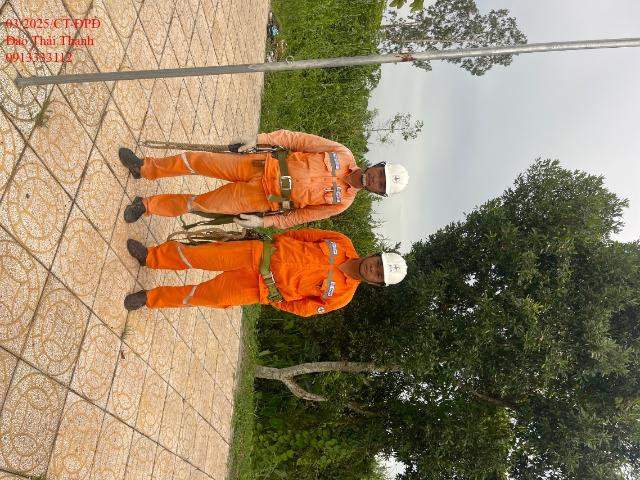gloves: (234, 128, 260, 157), (235, 207, 264, 233)
harness: (267, 139, 298, 209), (258, 238, 287, 309)
helmet: (370, 238, 414, 291), (381, 145, 412, 206)
shoes: (117, 286, 158, 318), (119, 187, 152, 226), (120, 233, 155, 269), (121, 141, 149, 184)
